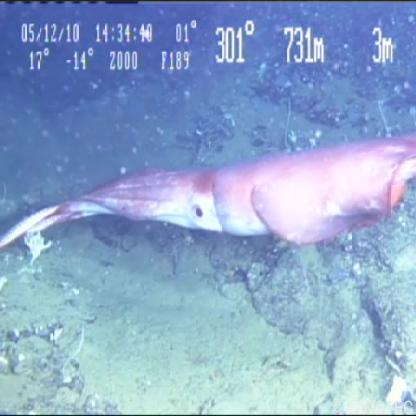Bio: (1, 132, 416, 254), (21, 229, 54, 266)
